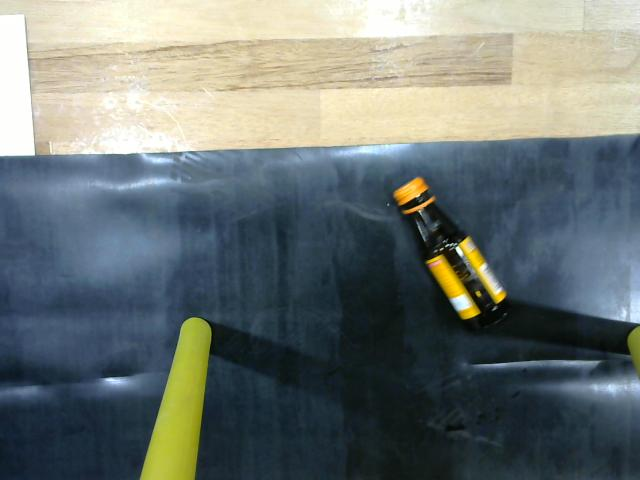glass: (386, 168, 524, 338)
